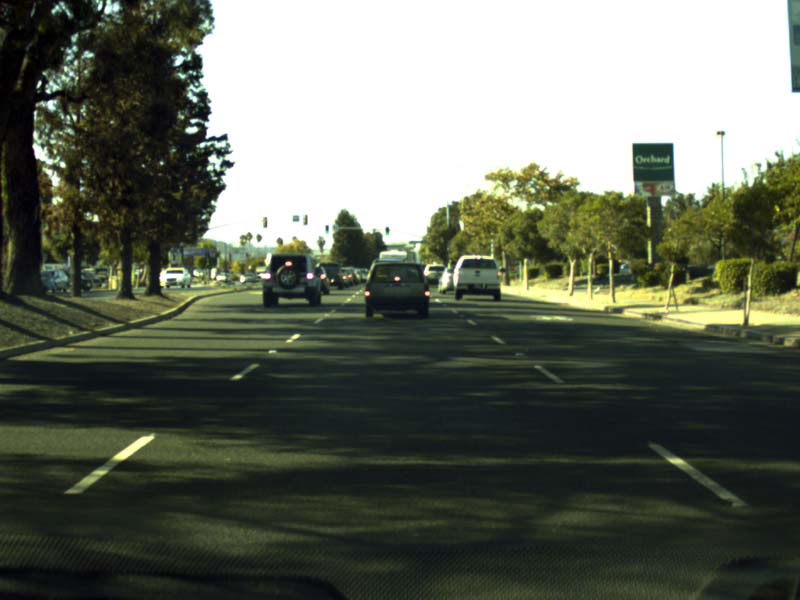Green: (385, 226, 388, 235), (325, 224, 328, 233)
